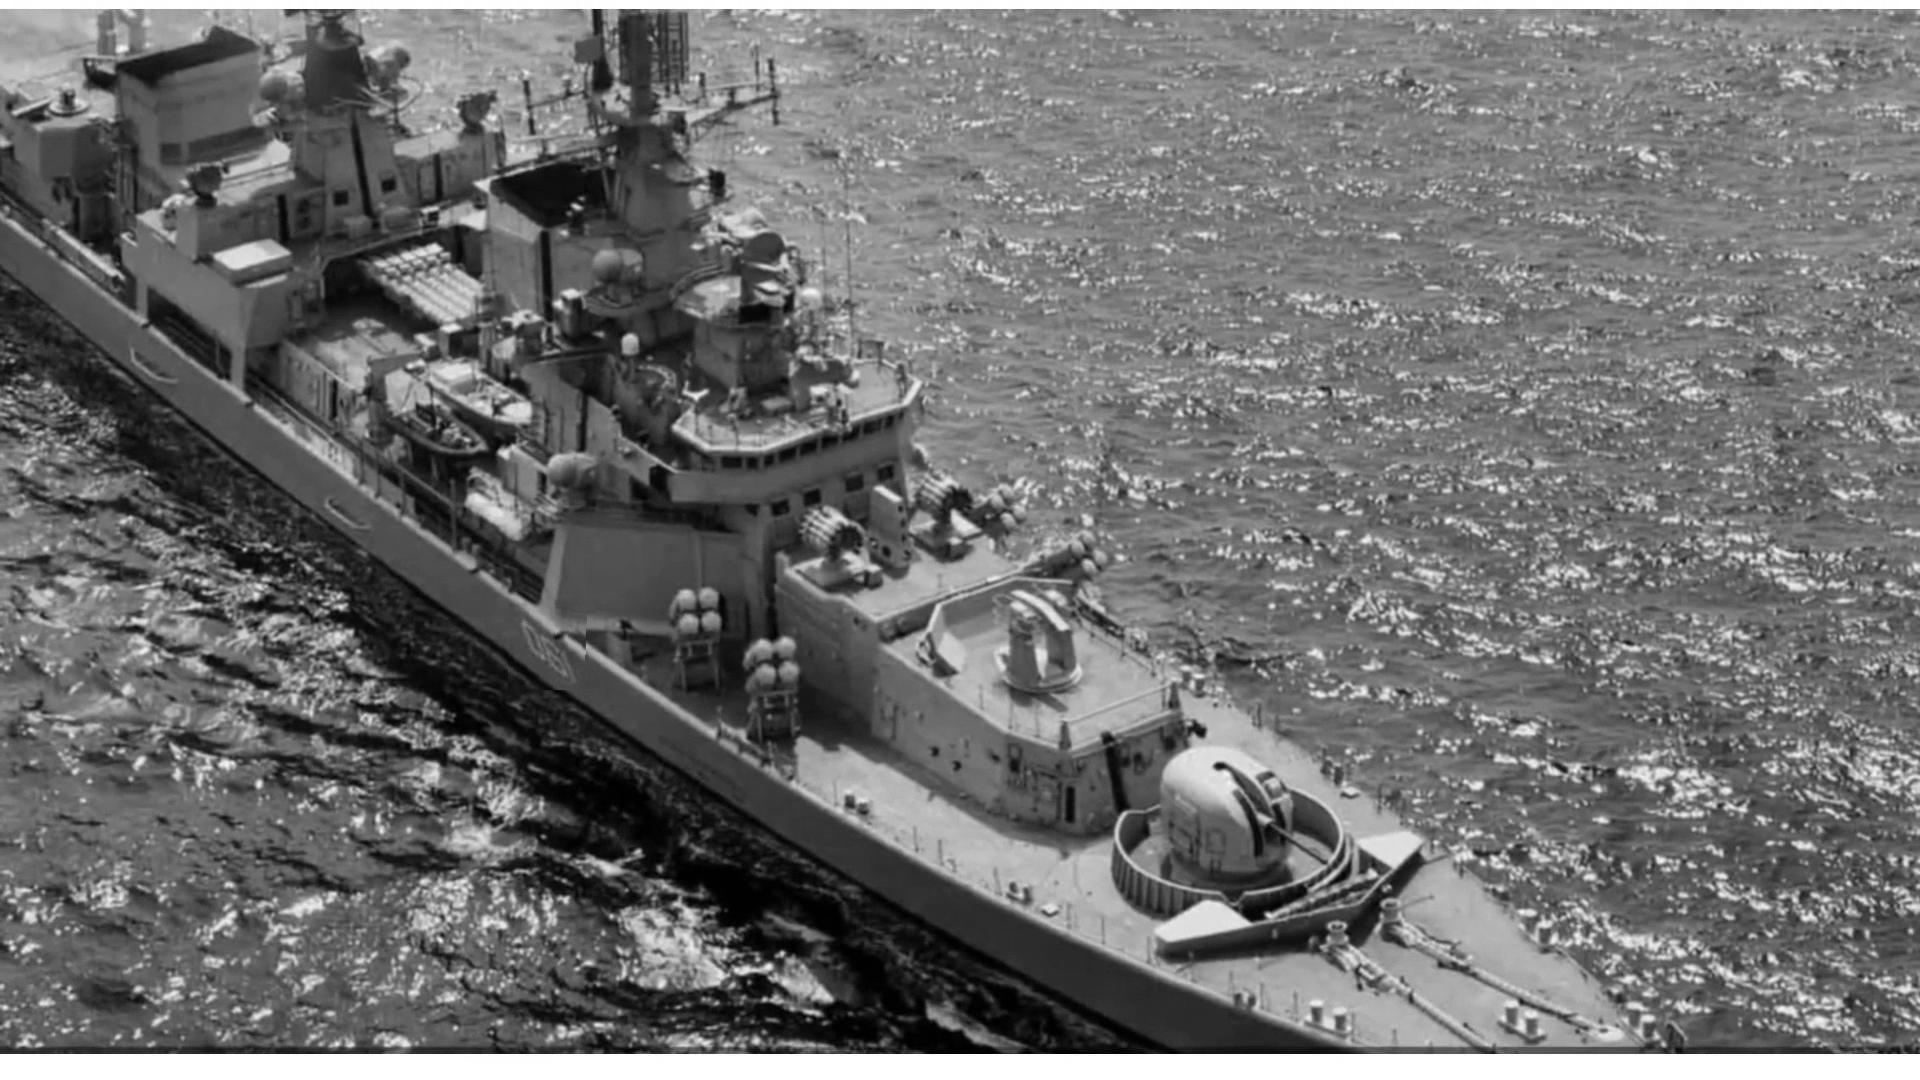OCR: (508, 608, 587, 690)
